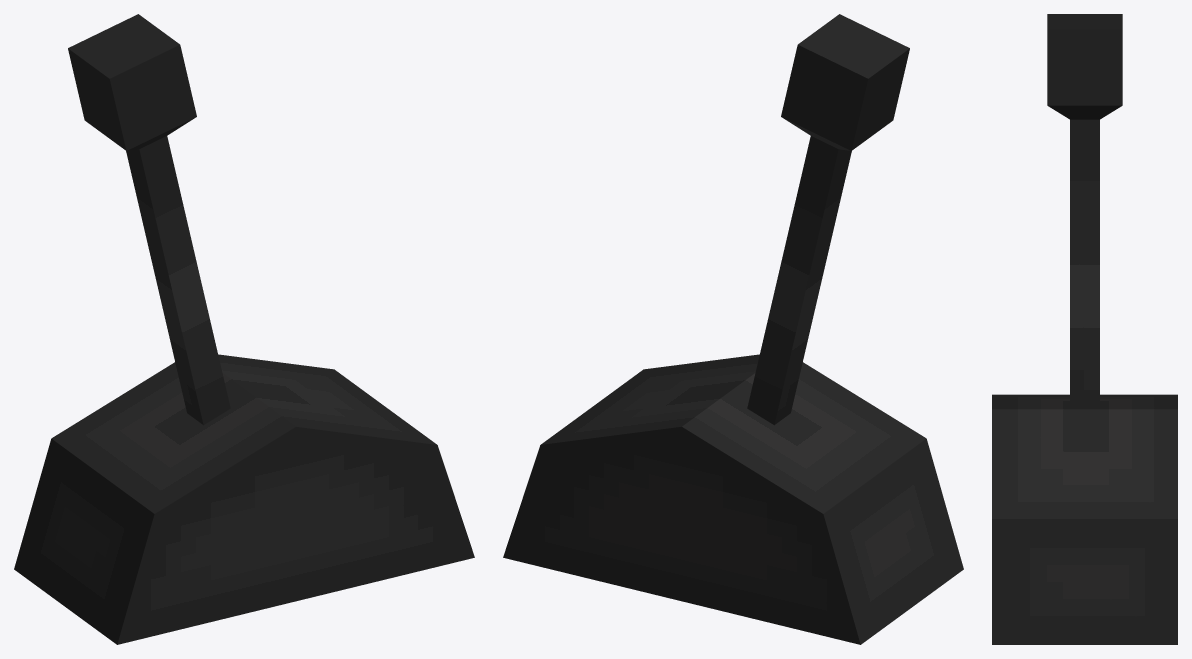
The model's file is lever0004.obj.
The picture shows the model from 3 angles, left to right: view 1: azimuth 30°, elevation 25°; view 2: azimuth 150°, elevation 25°; view 3: azimuth 270°, elevation 25°; orthographic projection. The views are drawn at different scales.
Parts seen in each view (by area): view 1: Cube.018, Cube.019; view 2: Cube.018, Cube.019; view 3: Cube.018, Cube.019.
Boxes of the visible parts, left/top/right/bottom form: Cube.018: left=14, top=354, right=474, bottom=644; Cube.019: left=68, top=14, right=230, bottom=425; Cube.018: left=503, top=354, right=963, bottom=644; Cube.019: left=747, top=14, right=909, bottom=425; Cube.018: left=992, top=394, right=1177, bottom=644; Cube.019: left=1047, top=14, right=1122, bottom=406.
Size of the model in its own units: 32 by 48.1 by 16.
